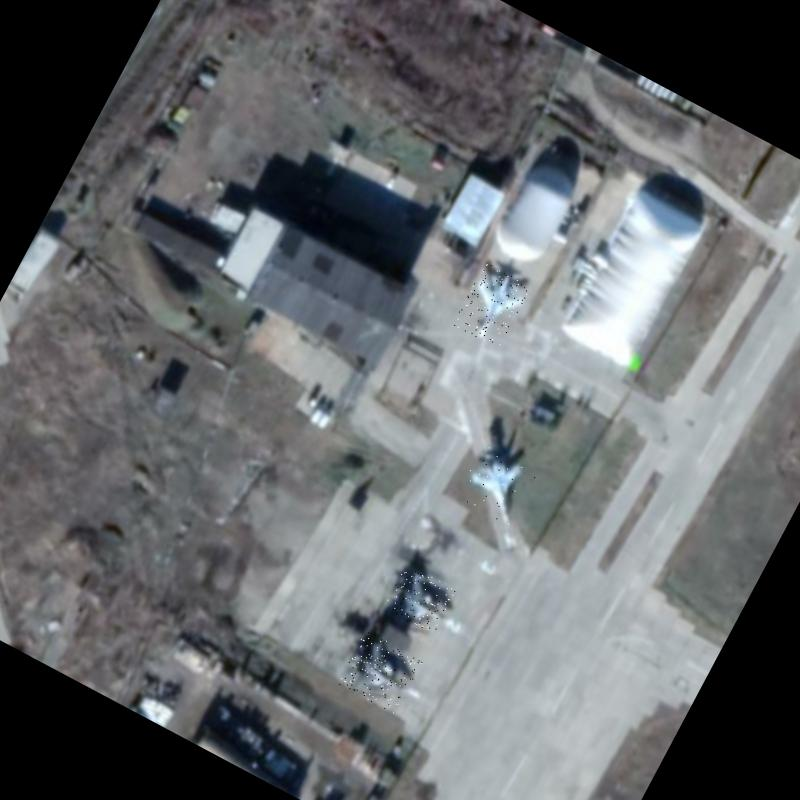A1: (336, 630, 423, 714), (454, 442, 538, 527), (452, 262, 530, 348), (382, 563, 457, 635)
